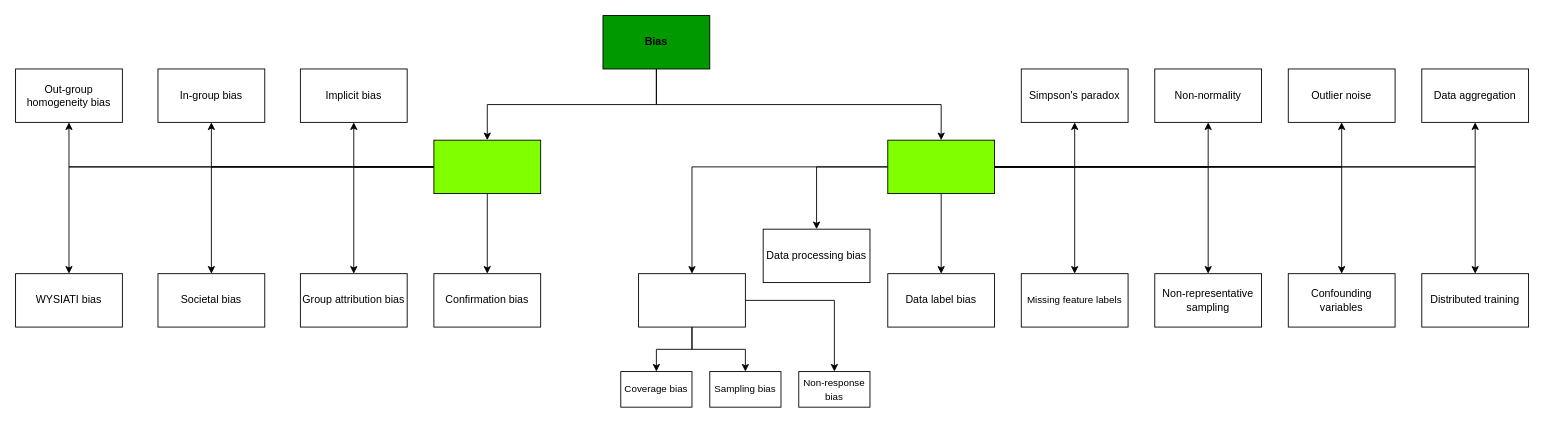
This 1544x423 diagram has some shape labels left out. The shapes that lost their labels are listed below. From the top down, each one's centre as x and y in pixels, then its label:
pixel 487 166: Cognitive bias
pixel 941 166: Data bias
pixel 691 300: Selection bias
